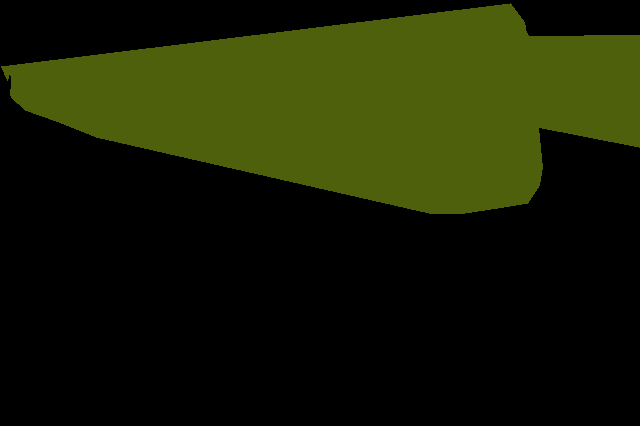Train: (1, 3, 542, 213), (525, 29, 640, 147)
